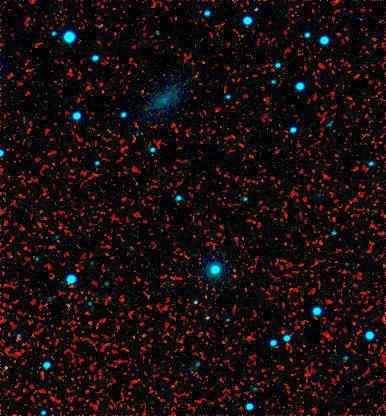star: (88, 78, 118, 108)
